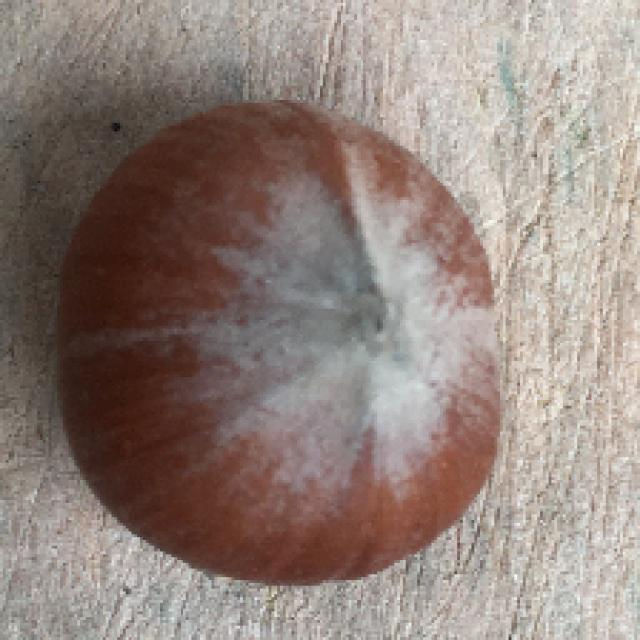qualityHazelnut: (55, 93, 512, 596)
